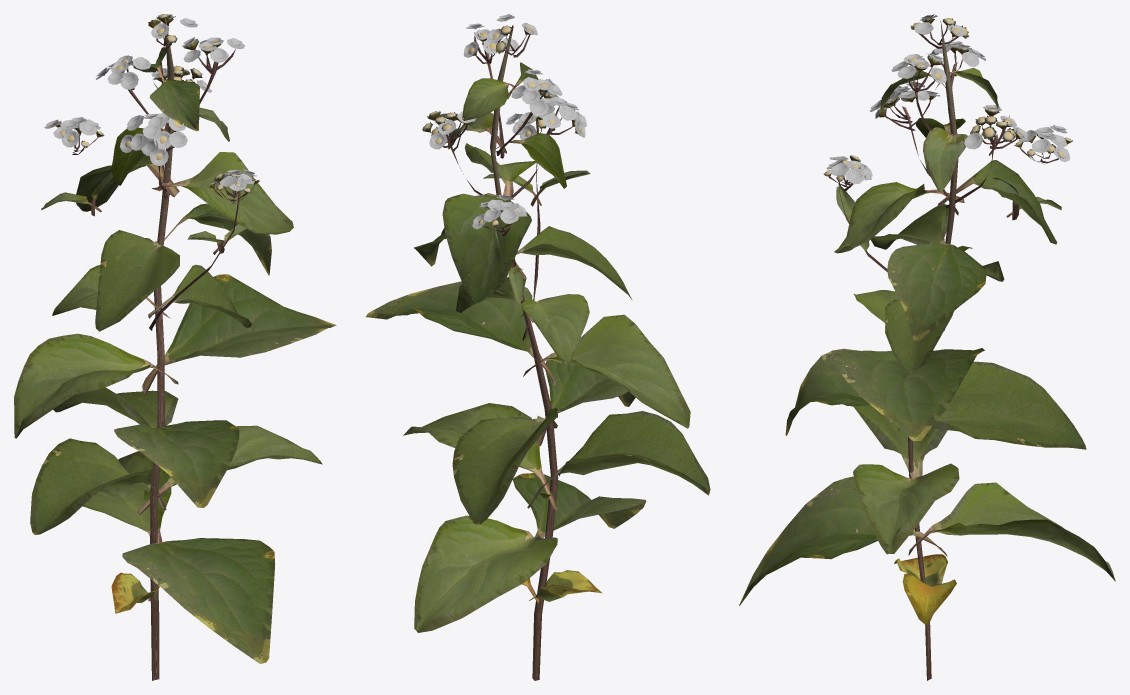
File: shrub_a.glb
The picture shows the model from 3 angles, left to right: view 1: azimuth 30°, elevation 25°; view 2: azimuth 150°, elevation 25°; view 3: azimuth 270°, elevation 25°; orthographic projection. The views are drawn at different scales.
Parts seen in each view (by area): view 1: shrub_a; view 2: shrub_a; view 3: shrub_a.
Part boxes in pixels (<box>): shrub_a: <box>14,14,336,680</box>; shrub_a: <box>366,14,710,680</box>; shrub_a: <box>739,14,1115,680</box>.
Bounding box in the file's own units: 0.1959 × 0.3802 × 0.1936.
1 material, 1 textured.
